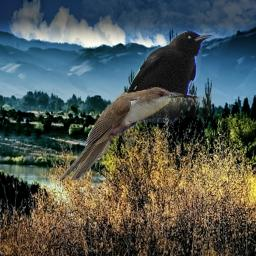Crow: (105, 31, 212, 137)
Cuckoo: (60, 87, 184, 180)
